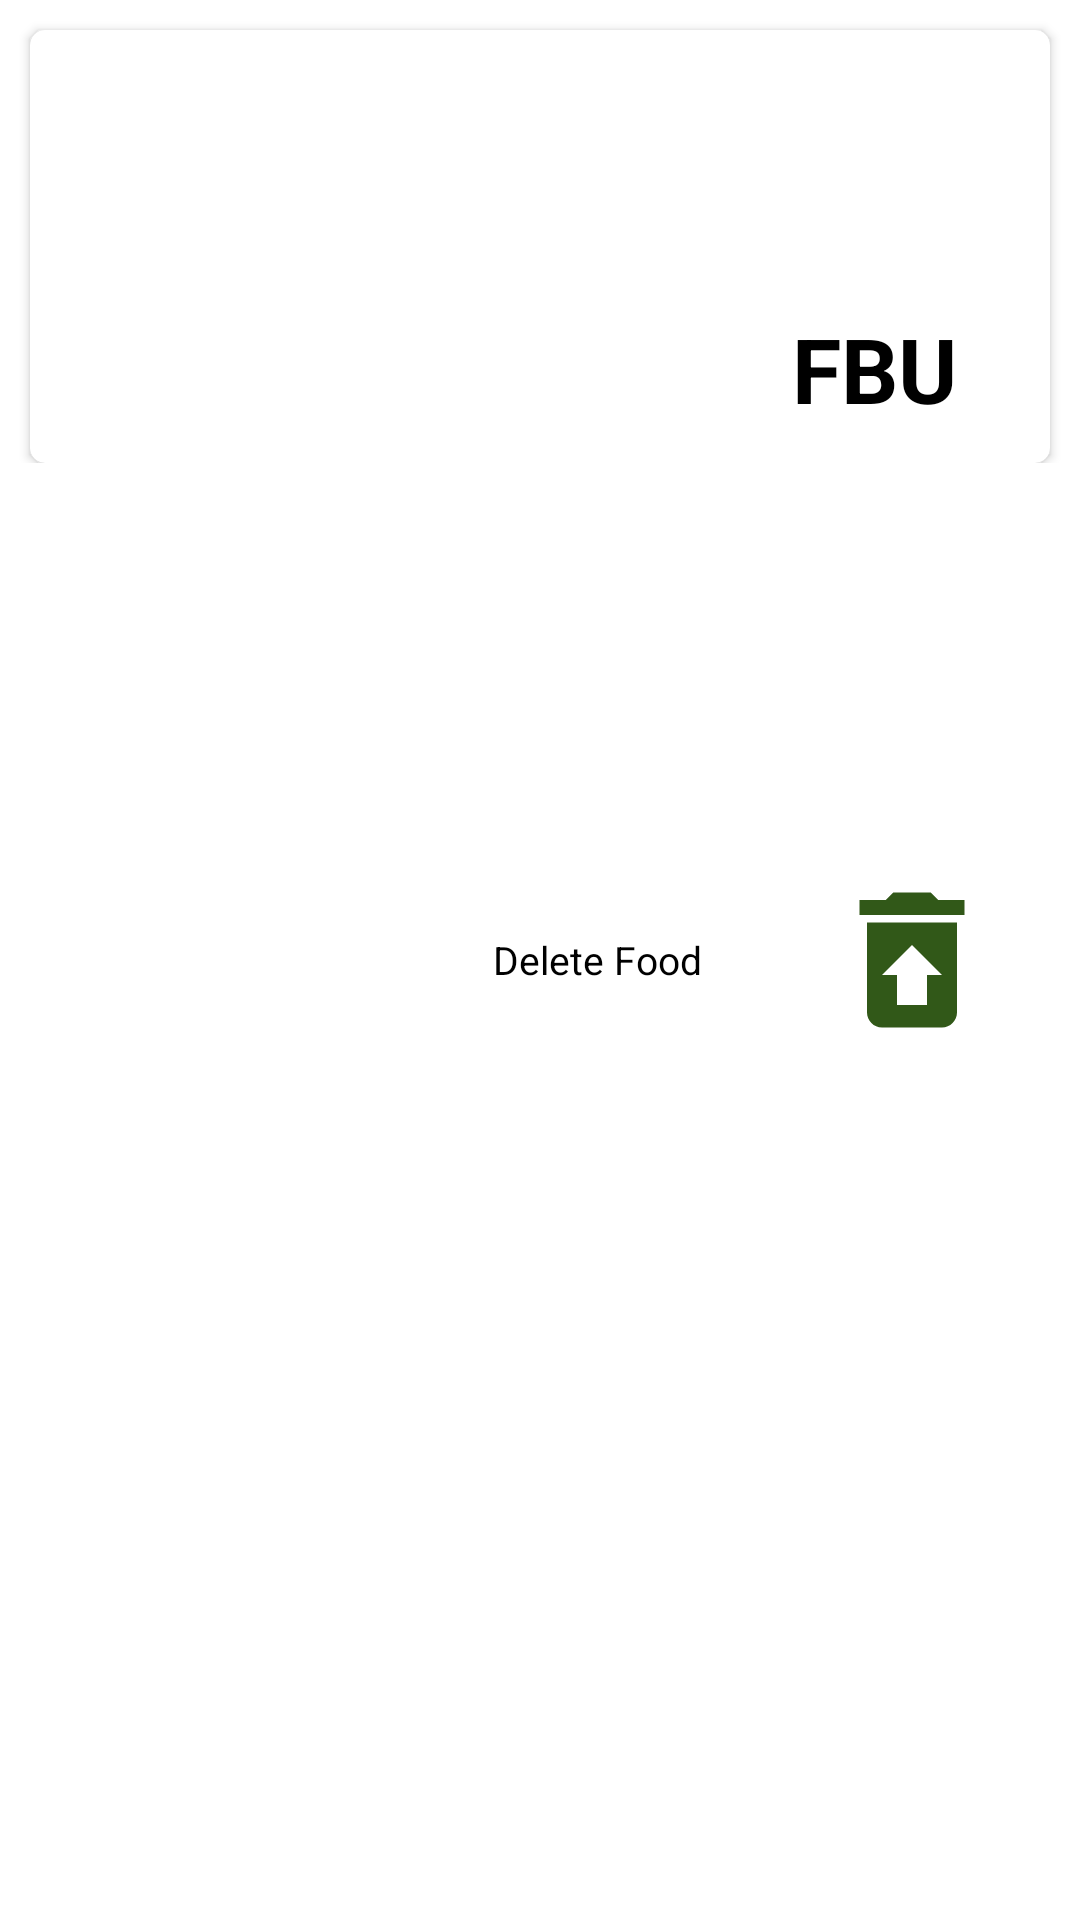

Icon bounding boxes for this 1080px×1920px phone screenshot, format (x1, y1, x2, y2):
restore from trash: (859, 892, 965, 1028)
